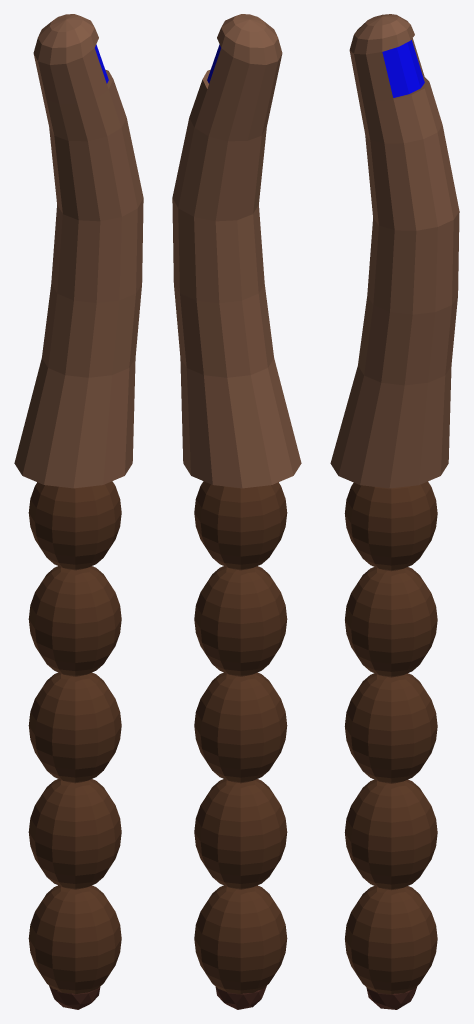
Rendered from Wand 240.glb.
3 views of the same model, side by side, from view 1: azimuth 30°, elevation 25°; view 2: azimuth 150°, elevation 25°; view 3: azimuth 330°, elevation 25° (orthographic).
Visible parts, largest first — view 1: GeneratedWand; view 2: GeneratedWand; view 3: GeneratedWand.
Part boxes in pixels (left/top/right/bottom): GeneratedWand: left=14, top=14, right=143, bottom=1009; GeneratedWand: left=172, top=14, right=301, bottom=1009; GeneratedWand: left=330, top=14, right=459, bottom=1009.
Bounding box in the file's own units: 0.0644 × 0.5277 × 0.0572.
